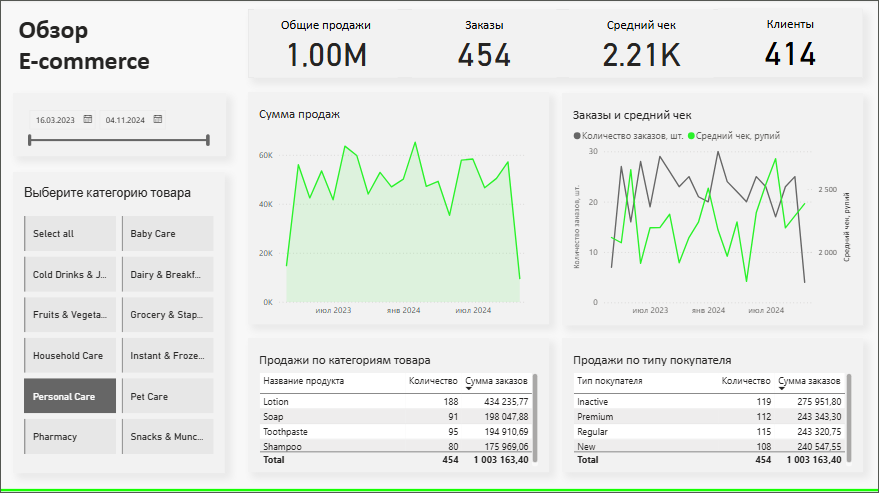

This screenshot's page, from the dashboard's own definition file:
{"tool":"powerbi","page":{"name":"dashboard","canvas":[1280,720],"ordinal":0},"visuals":[{"type":"shape","box":[364,14,894,100],"z":0},{"type":"card","title":"Общие продажи","fields":{"Values":["Sum(orders.order_total)"]},"box":[372.4,14.5,209,100],"z":1000},{"type":"card","title":"Заказы","fields":{"Values":["Count(order_items.order_id)"]},"box":[602,14,210,100],"z":2000},{"type":"card","title":"Средний чек","fields":{"Values":["orders.avg_bill"]},"box":[830,14,210,100],"z":3000},{"type":"card","title":"Клиенты","fields":{"Values":["Count(orders.customer_id)"]},"box":[1047.8,13.7,210,100],"z":4000},{"type":"areaChart","title":"Сумма продаж","fields":{"Category":["orders.order_date.Изменение.Иерархия дат.Год","orders.order_date.Изменение.Иерархия дат.Месяц"],"Y":["Sum(orders.order_total)"]},"box":[363,135.3,438.3,338.3],"z":5000},{"type":"slicer","fields":{"Values":["orders.order_date"]},"box":[22,136,310,92],"z":6000},{"type":"advancedSlicerVisual","title":"Выберите категорию товара","fields":{"Values":["products.category"]},"box":[22,252,308,438],"z":7000},{"type":"tableEx","title":"Продажи по категориям товара","fields":{"Values":["products.product_name","orders.order_id","Sum(orders.order_total)"]},"box":[363,493.7,438.3,195],"z":8000},{"type":"tableEx","title":"Продажи по типу покупателя","fields":{"Values":["customers.customer_segment","orders.order_id","Sum(orders.order_total)"]},"box":[819.7,493.7,438.3,195],"z":9000},{"type":"textbox","box":[21.8,1.5,308.4,135.3],"z":10000},{"type":"lineChart","title":"Заказы и средний чек","fields":{"Category":["orders.order_date.Изменение.Иерархия дат.Год","orders.order_date.Изменение.Иерархия дат.Месяц"],"Y":["Count(orders.order_id)"],"Y2":["orders.avg_bill"]},"box":[820,136,438,338],"z":11000},{"type":"shape","box":[0,708,1280,12],"z":12000}]}

Visuals, with their boxes in screenshot pixels (x1, y1, x2, y2), scaled from the page's 1280x720 canvas onto the 879x493 screenshot:
shape: box=[250, 10, 864, 78]
"Общие продажи" card: box=[256, 10, 399, 78]
"Заказы" card: box=[413, 10, 558, 78]
"Средний чек" card: box=[570, 10, 714, 78]
"Клиенты" card: box=[720, 9, 864, 78]
"Сумма продаж" areaChart: box=[249, 93, 550, 324]
slicer - orders.order_date: box=[15, 93, 228, 156]
"Выберите категорию товара" advancedSlicerVisual: box=[15, 173, 227, 472]
"Продажи по категориям товара" tableEx: box=[249, 338, 550, 472]
"Продажи по типу покупателя" tableEx: box=[563, 338, 864, 472]
textbox: box=[15, 1, 227, 94]
"Заказы и средний чек" lineChart: box=[563, 93, 864, 325]
shape: box=[0, 485, 878, 492]
